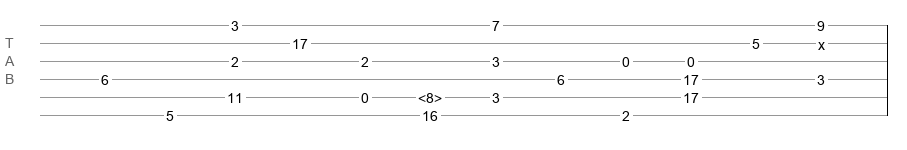0: (361, 90, 369, 100), (622, 54, 630, 64), (687, 54, 695, 64)
11: (227, 90, 243, 100)
16: (422, 108, 438, 118)
17: (292, 36, 308, 46), (683, 90, 699, 100), (683, 72, 699, 82)
2: (231, 54, 239, 64), (361, 54, 369, 64), (622, 108, 630, 118)
3: (231, 18, 239, 28), (492, 90, 500, 100), (492, 54, 500, 64), (817, 72, 825, 82)
5: (166, 108, 174, 118), (752, 36, 760, 46)
6: (101, 72, 109, 82), (557, 72, 565, 82)
7: (492, 18, 500, 28)
9: (817, 18, 825, 28)
harmonic: (418, 90, 442, 100)
x: (818, 37, 825, 45)
